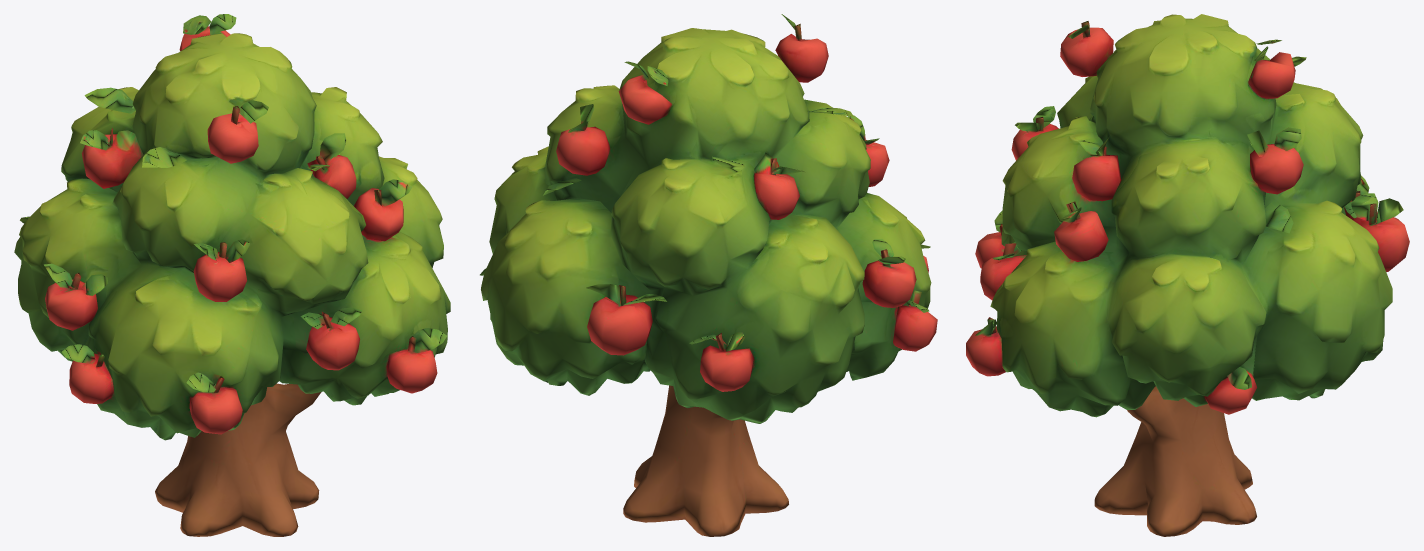
Rendered from apple-tree.glb.
The picture shows the model from 3 angles, left to right: view 1: azimuth 30°, elevation 25°; view 2: azimuth 150°, elevation 25°; view 3: azimuth 270°, elevation 25°; orthographic projection. The views are drawn at different scales.
Visible parts, largest first — view 1: Apple Tree; view 2: Apple Tree; view 3: Apple Tree.
Boxes of the visible parts, x1,y1,x2,y2 form: Apple Tree: (14, 14, 450, 536); Apple Tree: (480, 14, 937, 536); Apple Tree: (966, 14, 1409, 536).
Size of the model in its own units: 0.9082 by 0.998 by 0.8574.
Materials: 1 (1 with a texture image).
